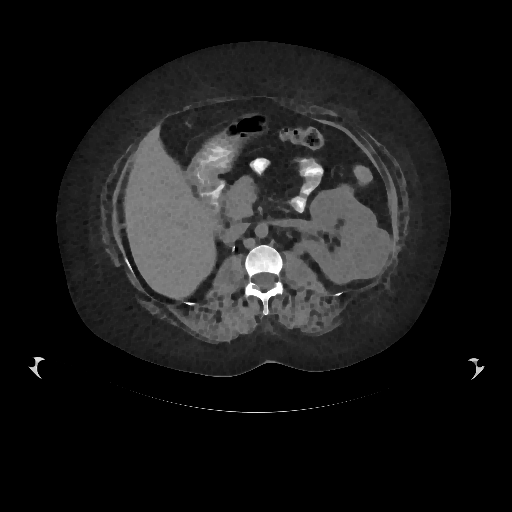Lesion: (343, 217, 391, 283)
